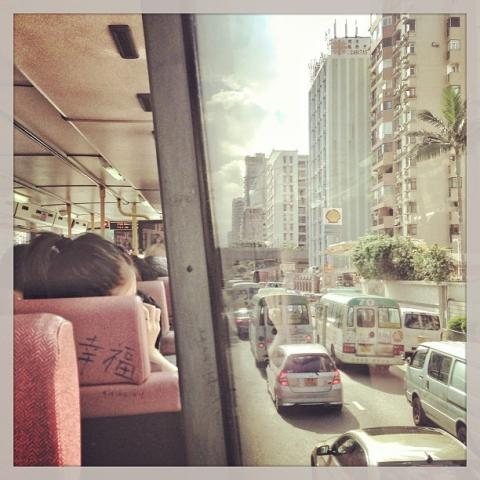bus: (315, 290, 405, 369), (248, 288, 314, 368), (230, 283, 259, 341)
car: (314, 424, 467, 468), (404, 342, 467, 445), (266, 343, 344, 413), (399, 308, 444, 358), (232, 298, 256, 338)
